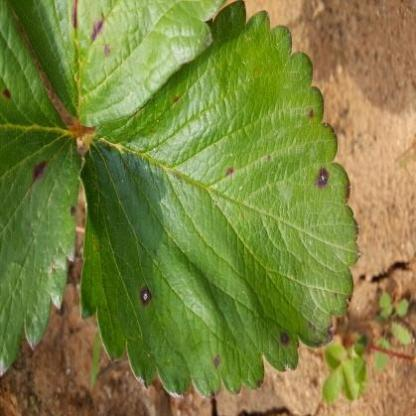Strawberry_Leaf_Spot: (76, 0, 363, 399), (0, 0, 83, 377), (7, 0, 226, 129)
